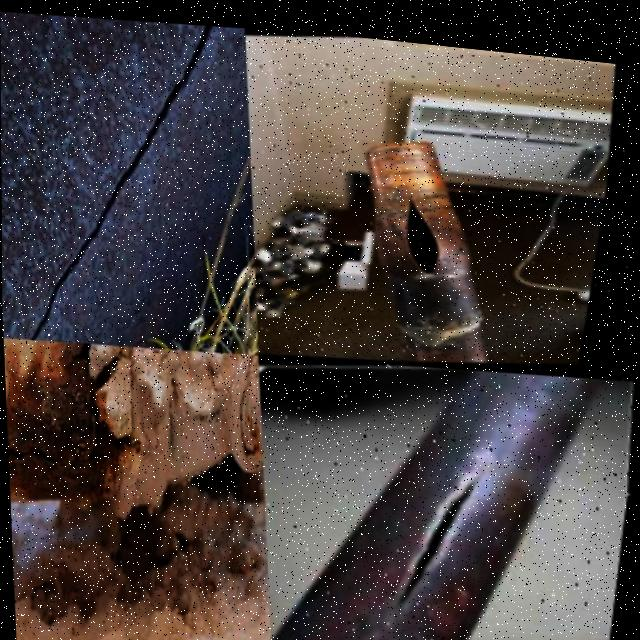crack: (22, 21, 220, 338), (389, 449, 483, 602)
hole: (83, 409, 129, 475), (92, 357, 127, 399), (7, 427, 29, 489), (67, 340, 100, 379)
rupture: (396, 185, 465, 274)
